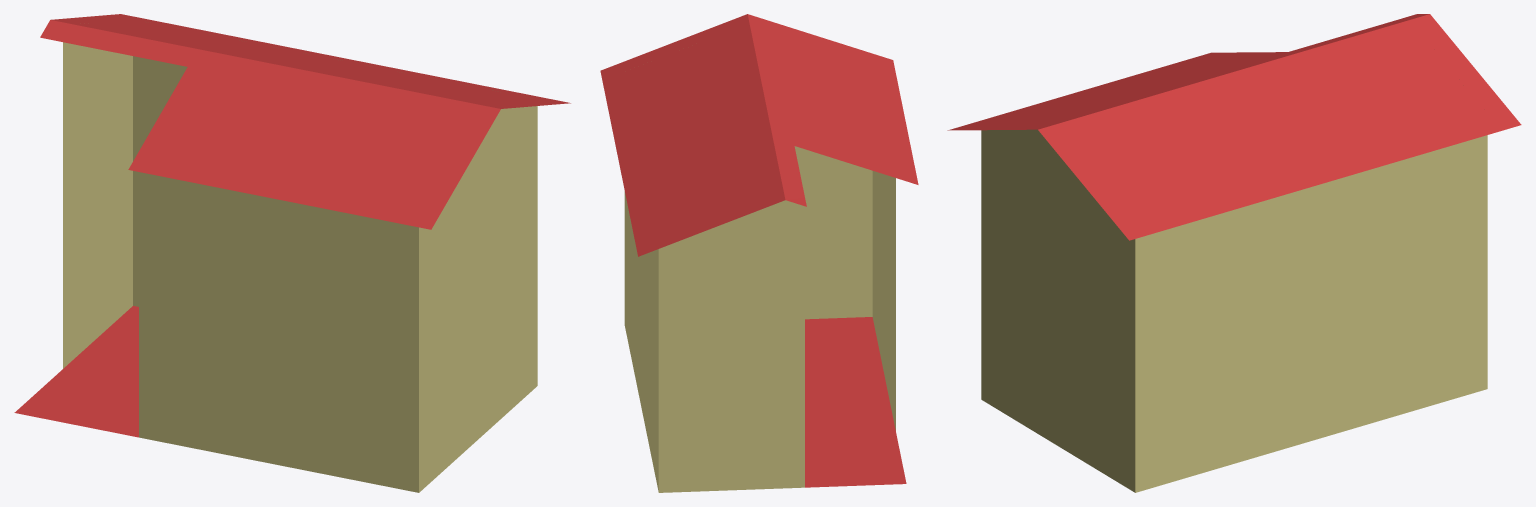
3 views of the same model, side by side, from view 1: azimuth 30°, elevation 25°; view 2: azimuth 150°, elevation 25°; view 3: azimuth 270°, elevation 25° (orthographic). The views are drawn at different scales.
Bounding box in the file's own units: 10.22 × 11.72 × 7.26.
